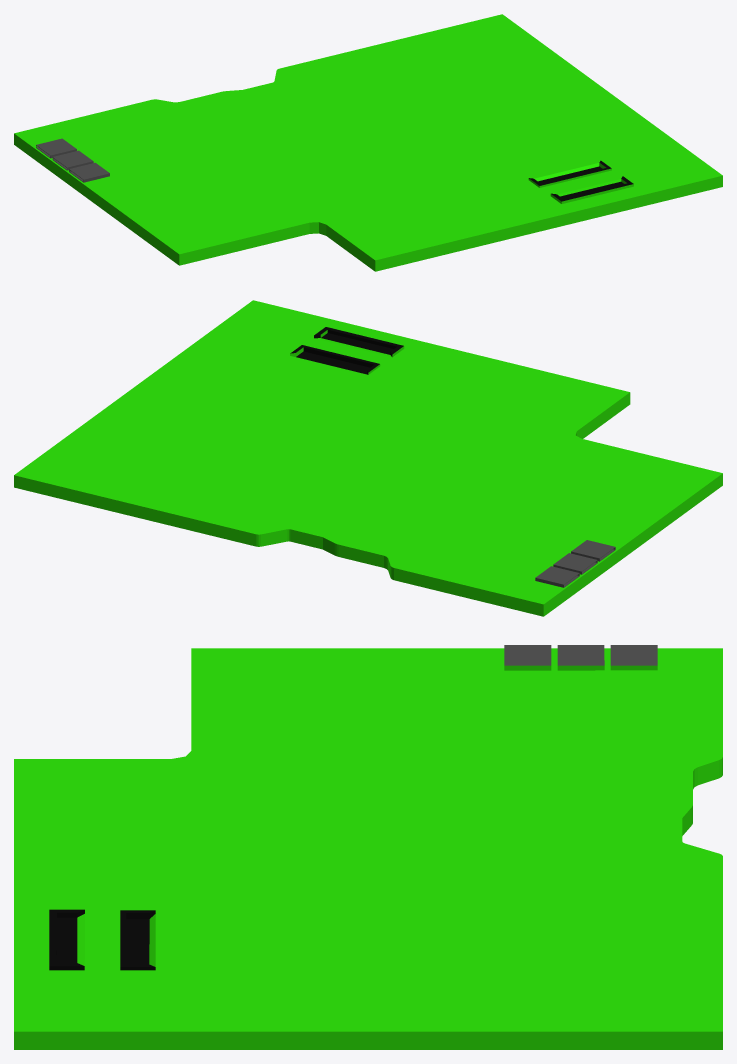
File: motherboard_Scene.fbx
3 renders of one model, top to bottom at view 1: azimuth 30°, elevation 25°; view 2: azimuth 150°, elevation 25°; view 3: azimuth 270°, elevation 25°, orthographic. The views are drawn at different scales.
Visible parts, largest first — view 1: Cube.004; view 2: Cube.004; view 3: Cube.004.
Boxes of the visible parts, bbox=[...] form: Cube.004: bbox=[14, 14, 722, 271]; Cube.004: bbox=[14, 300, 722, 616]; Cube.004: bbox=[14, 645, 722, 1049].
Size of the model in its own units: 620 by 17.34 by 485.
